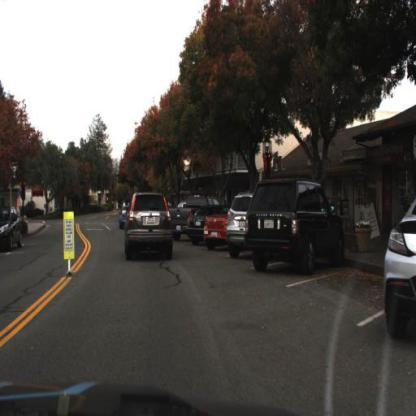car: (241, 178, 347, 269), (383, 196, 415, 344), (119, 188, 176, 262), (168, 194, 219, 238), (224, 188, 255, 260), (0, 203, 25, 250), (201, 203, 226, 249), (186, 201, 205, 242)
